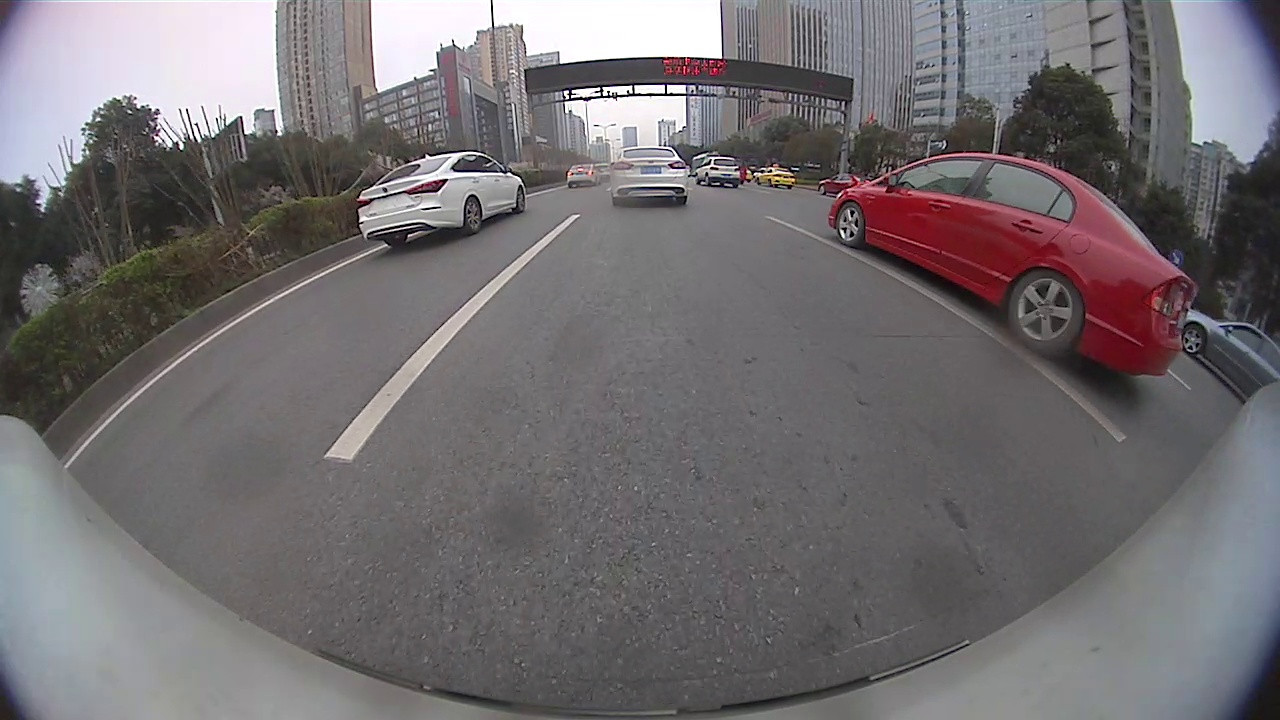car: (828, 153, 1200, 379), (355, 150, 528, 251), (1186, 309, 1279, 408), (612, 144, 691, 208), (696, 153, 742, 189), (819, 172, 867, 196), (565, 162, 602, 188), (758, 167, 795, 190)
front: (836, 203, 865, 248), (1178, 322, 1208, 356), (515, 183, 526, 213)
rear: (1006, 268, 1083, 356), (461, 194, 483, 234)
